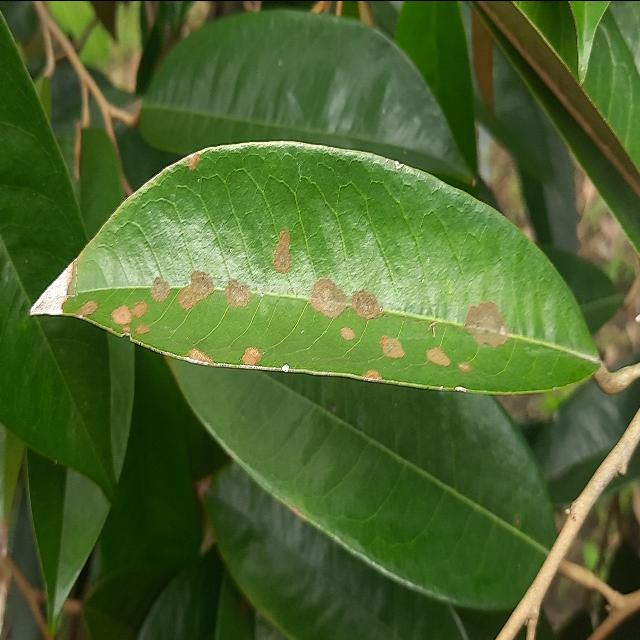Algal Leaf Spot: (27, 130, 605, 395)
